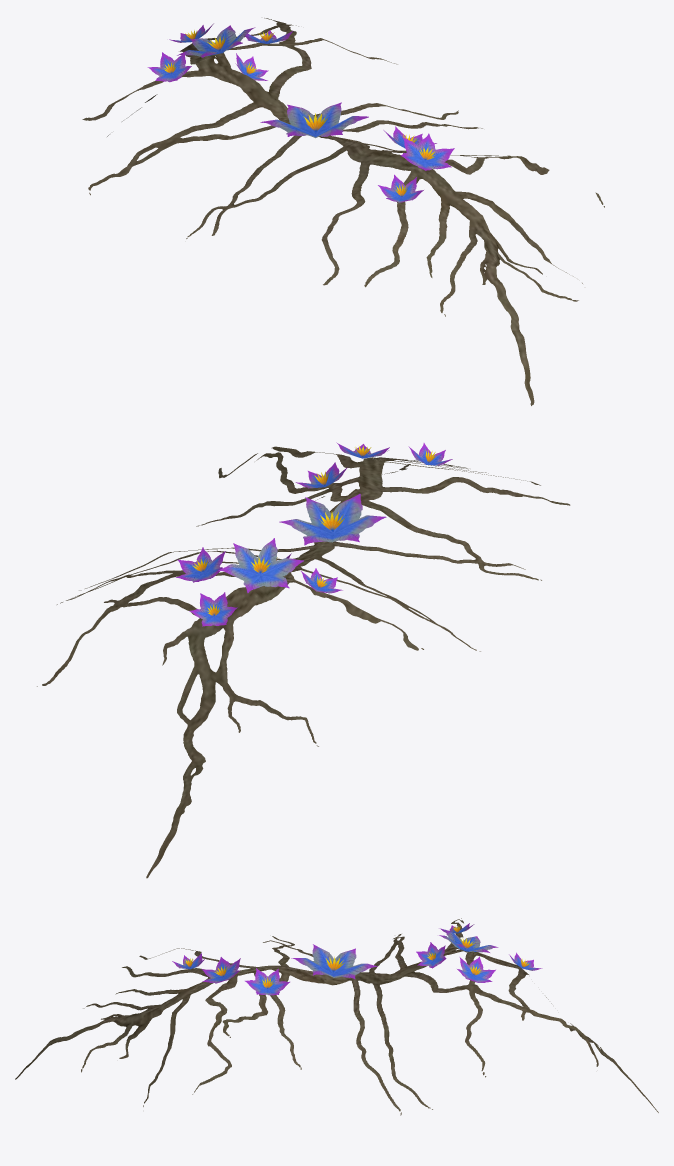
Rendered from Plant - Alien Flower3-CCS3ZGtF.glb.
The picture shows the model from 3 angles, top to bottom: view 1: azimuth 30°, elevation 25°; view 2: azimuth 150°, elevation 25°; view 3: azimuth 270°, elevation 25°; orthographic projection. The views are drawn at different scales.
Visible parts, largest first — view 1: Flower3(Clone); view 2: Flower3(Clone); view 3: Flower3(Clone).
Boxes of the visible parts, <box> form: Flower3(Clone): <box>82,18,604,405</box>; Flower3(Clone): <box>37,442,570,878</box>; Flower3(Clone): <box>15,918,658,1115</box>.
Bounding box in the file's own units: 1.31 × 0.6776 × 2.14.
1 material, 1 textured.
